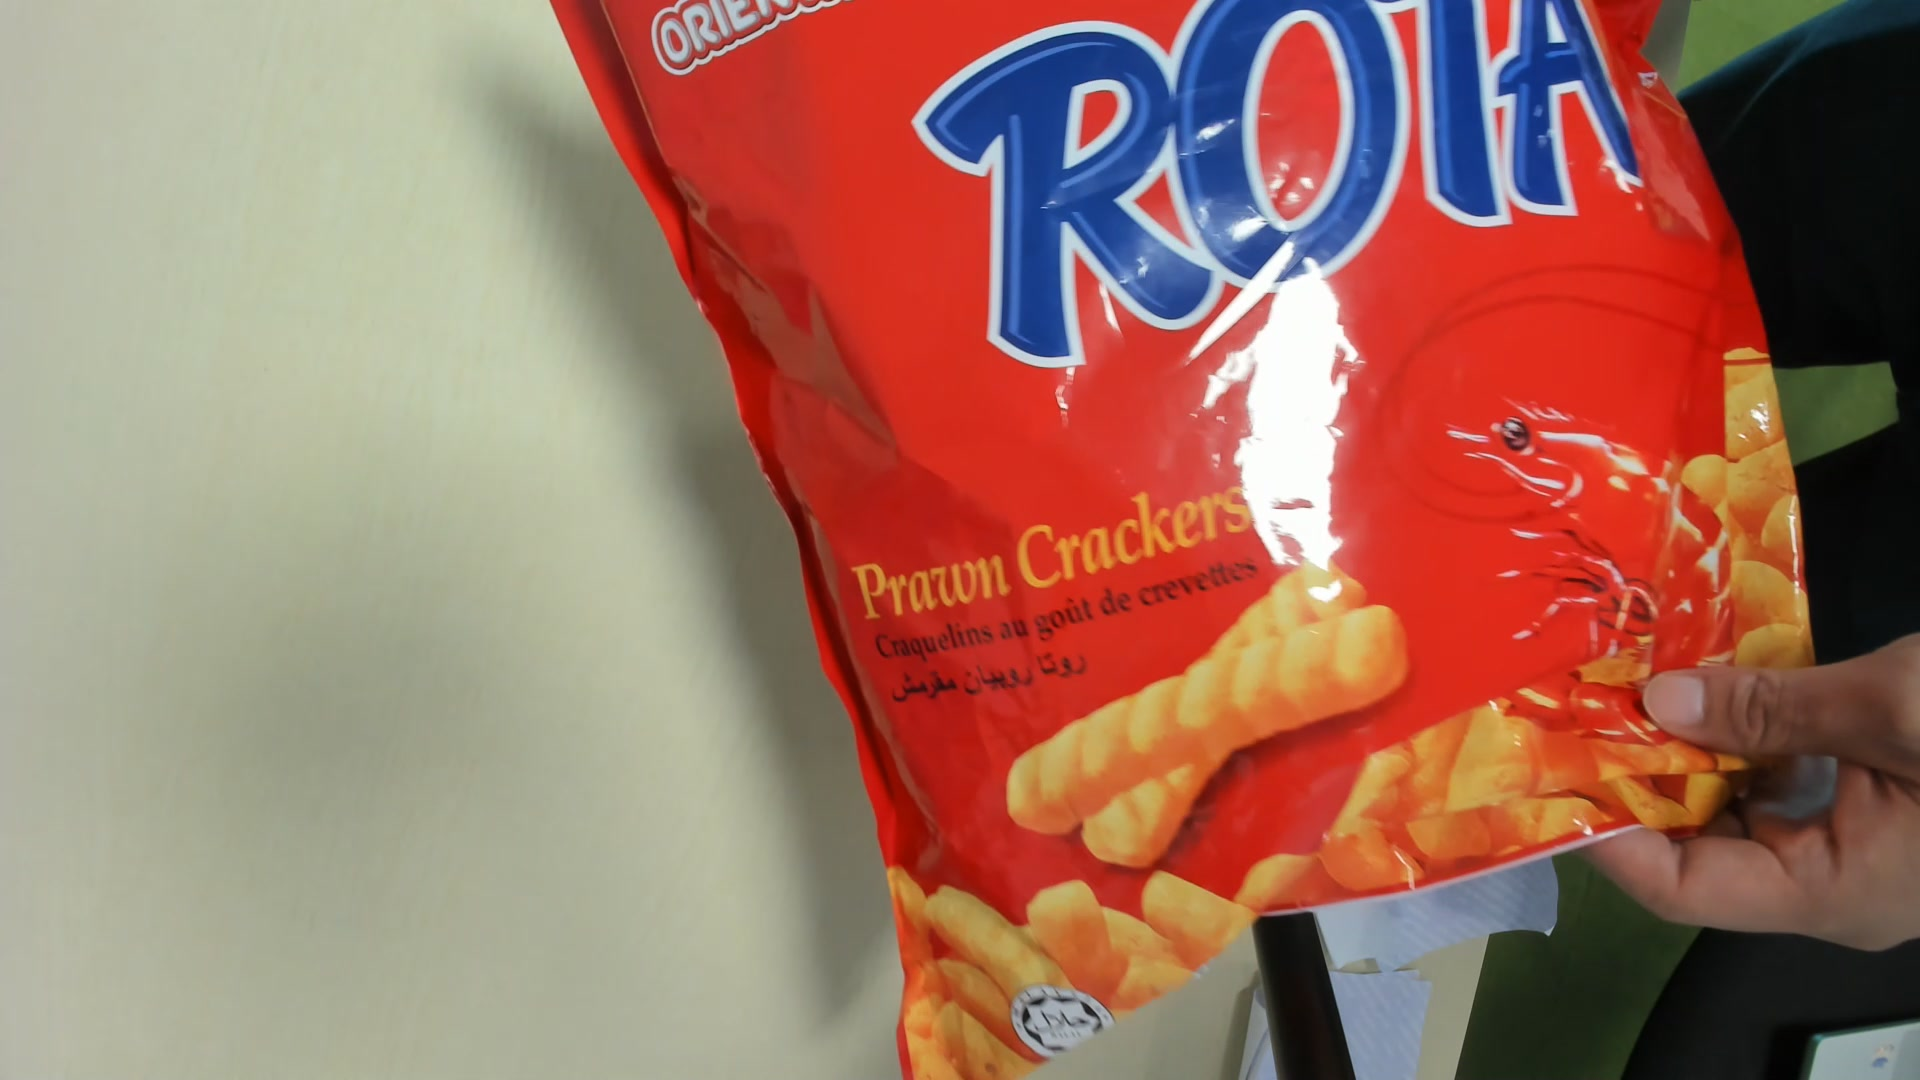PotatoChipsKeropok_100-199g_Halal_NonHealthy: (578, 7, 1820, 1080)
